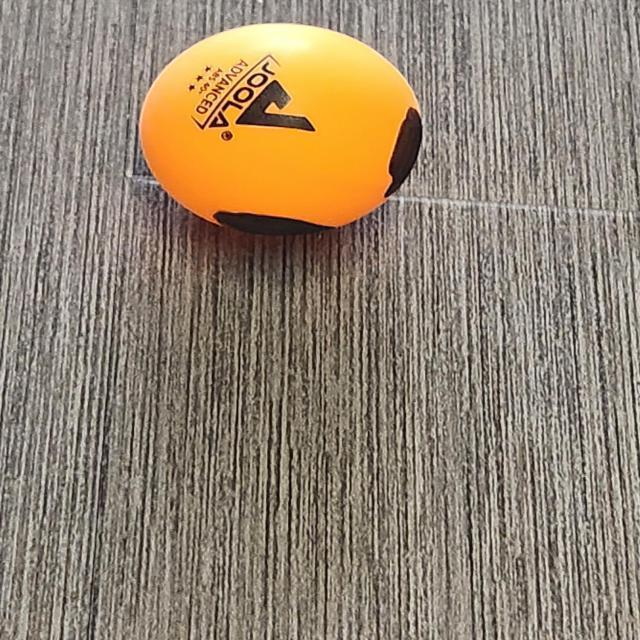ping-pong-ball: (138, 13, 432, 245)
